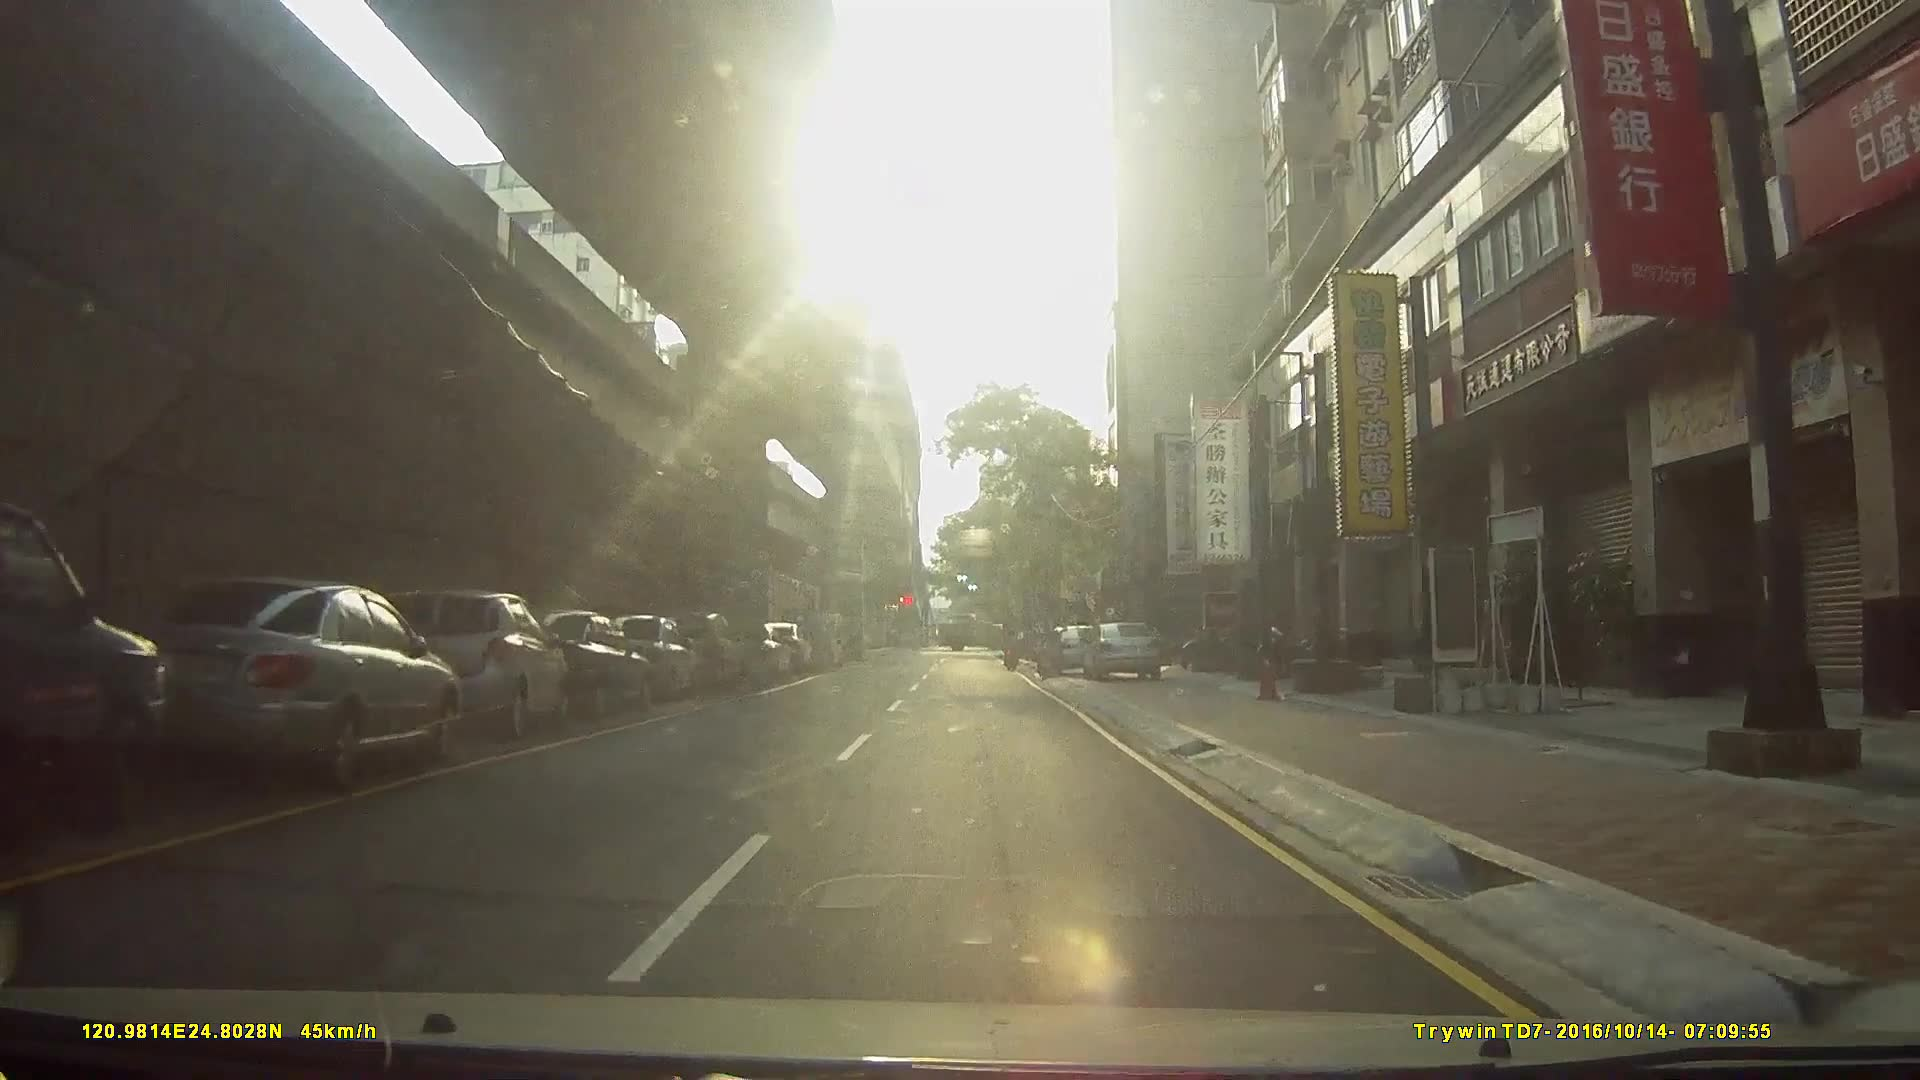vehicle: (94, 575, 451, 800), (1, 505, 185, 852), (360, 587, 567, 742), (510, 609, 649, 721), (604, 616, 703, 703), (658, 611, 746, 699), (1077, 622, 1166, 680), (775, 603, 832, 673), (1034, 624, 1102, 680), (935, 615, 1015, 651)
